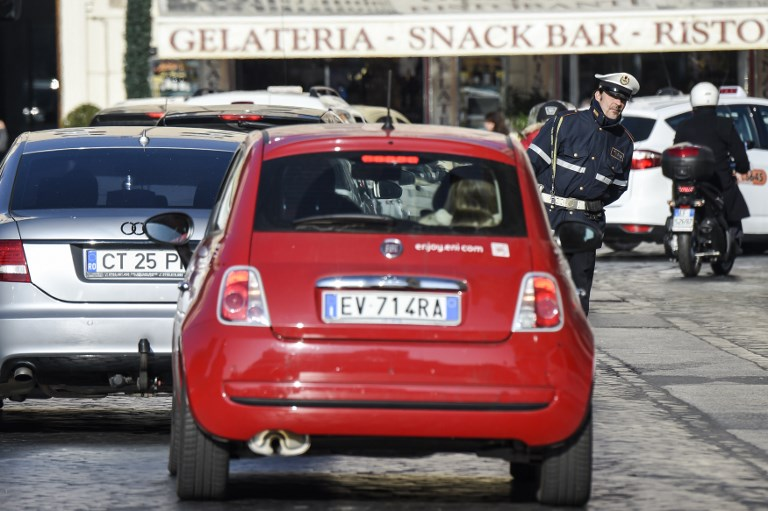license plate: (320, 288, 464, 328), (80, 246, 195, 282)
